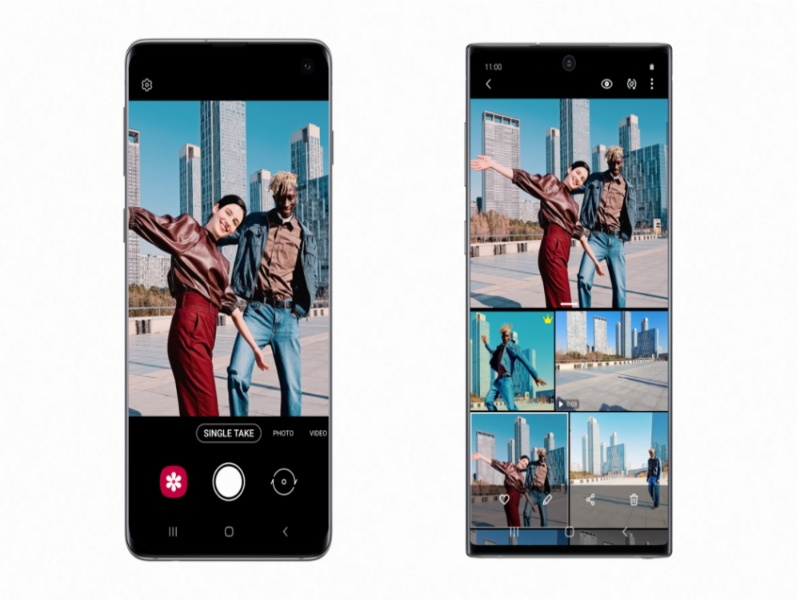mobile: (111, 32, 340, 576), (454, 31, 680, 567)
